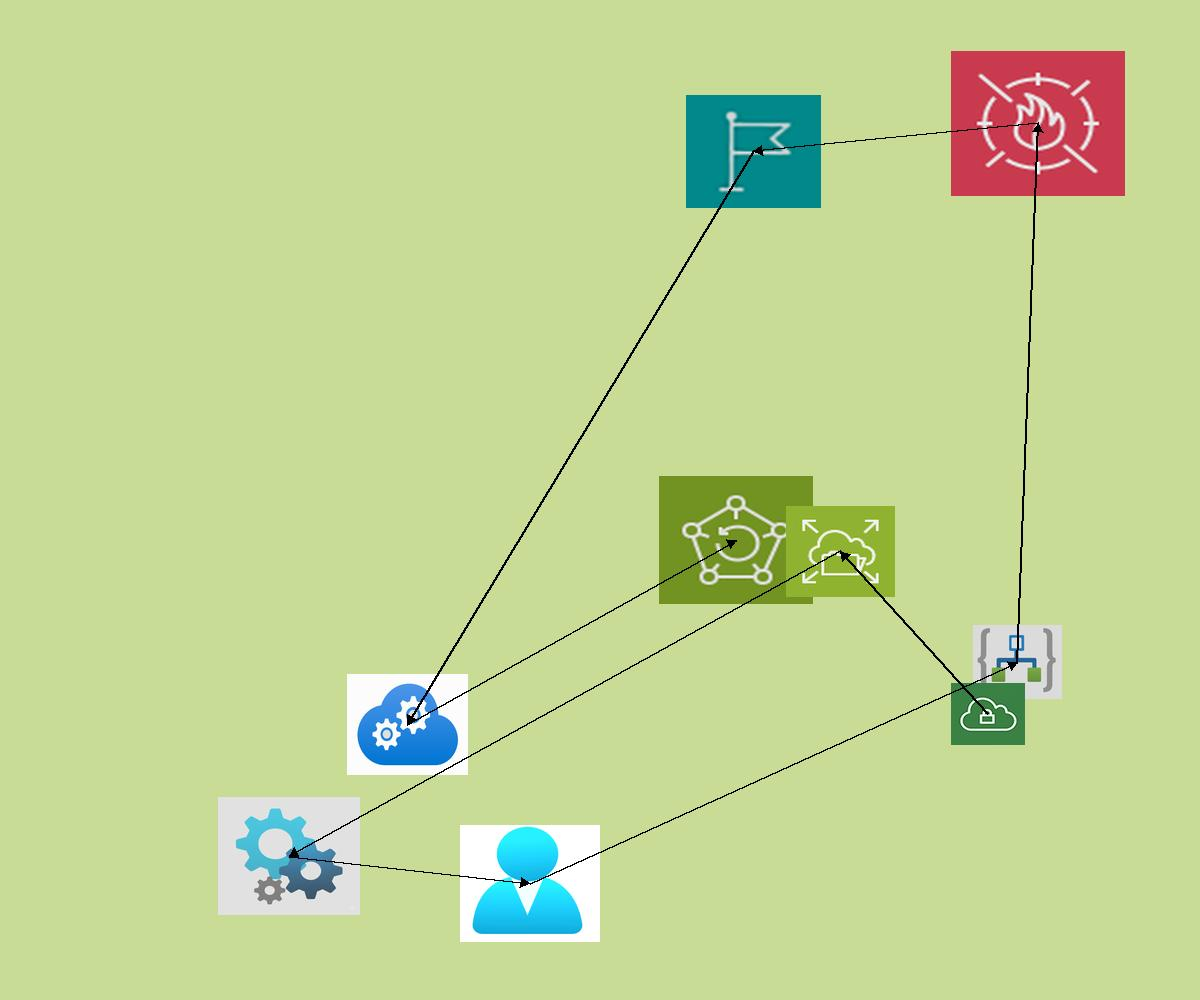AWS-Backup: (659, 476, 813, 604)
AWS-EFS: (786, 506, 895, 597)
AWS-Private_vpc: (951, 683, 1025, 745)
AWS-Region: (686, 95, 821, 208)
AWS-WAF: (951, 51, 1125, 196)
Azure_api: (218, 797, 360, 915)
Azure_cloud_services: (347, 674, 468, 775)
Azure_integration-204-Logic-Apps: (973, 625, 1062, 699)
Azure_users: (460, 825, 600, 942)
